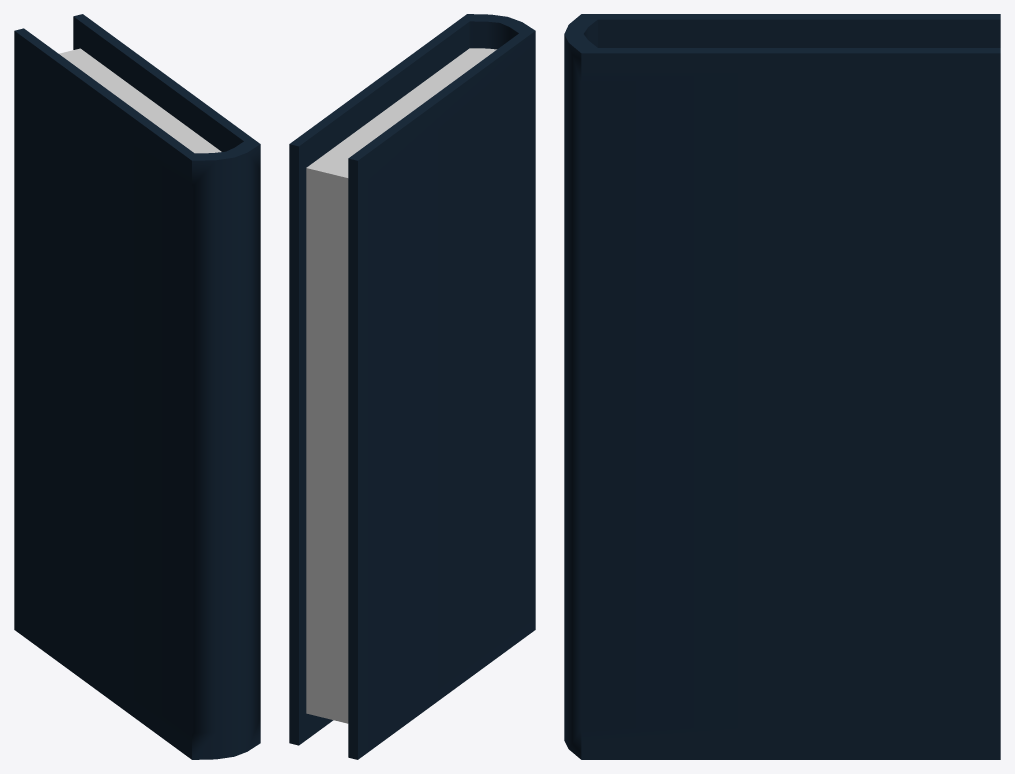
The model's file is BlueBook.fbx.
3 renders of one model, left to right at view 1: azimuth 30°, elevation 25°; view 2: azimuth 150°, elevation 25°; view 3: azimuth 270°, elevation 25°, orthographic. The views are drawn at different scales.
Parts seen in each view (by area): view 1: BlueBook; view 2: BlueBook; view 3: BlueBook.
Boxes of the visible parts, x1,y1,x2,y2 form: BlueBook: (14, 14, 260, 759); BlueBook: (289, 14, 535, 759); BlueBook: (564, 14, 1000, 759).
Size of the model in its own units: 122 by 1024 by 573.
